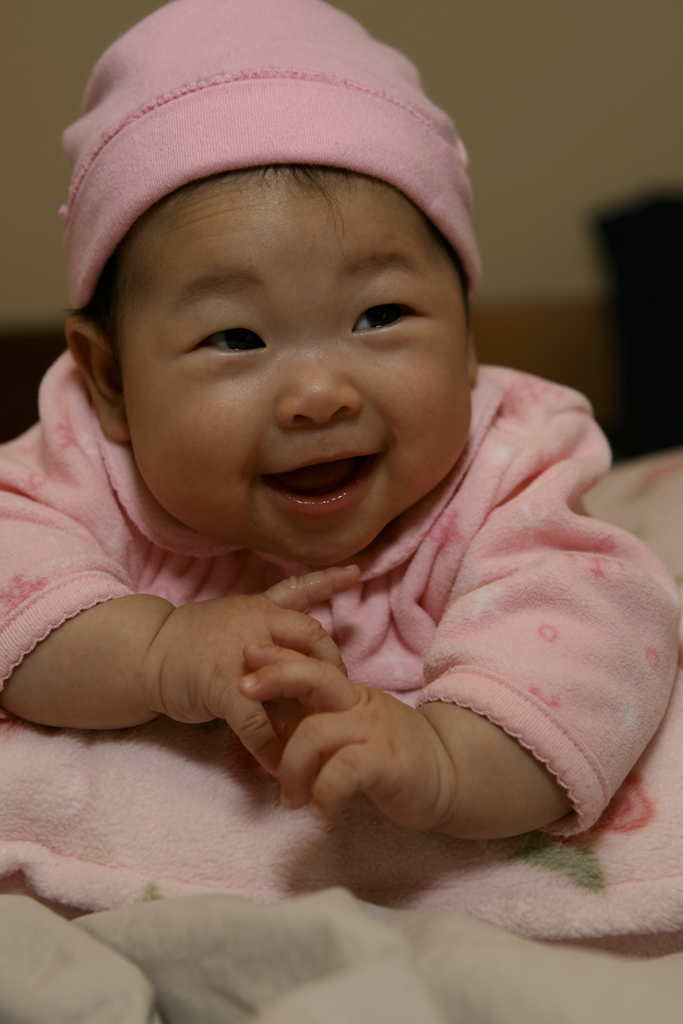Human-face: (136, 213, 470, 566)
